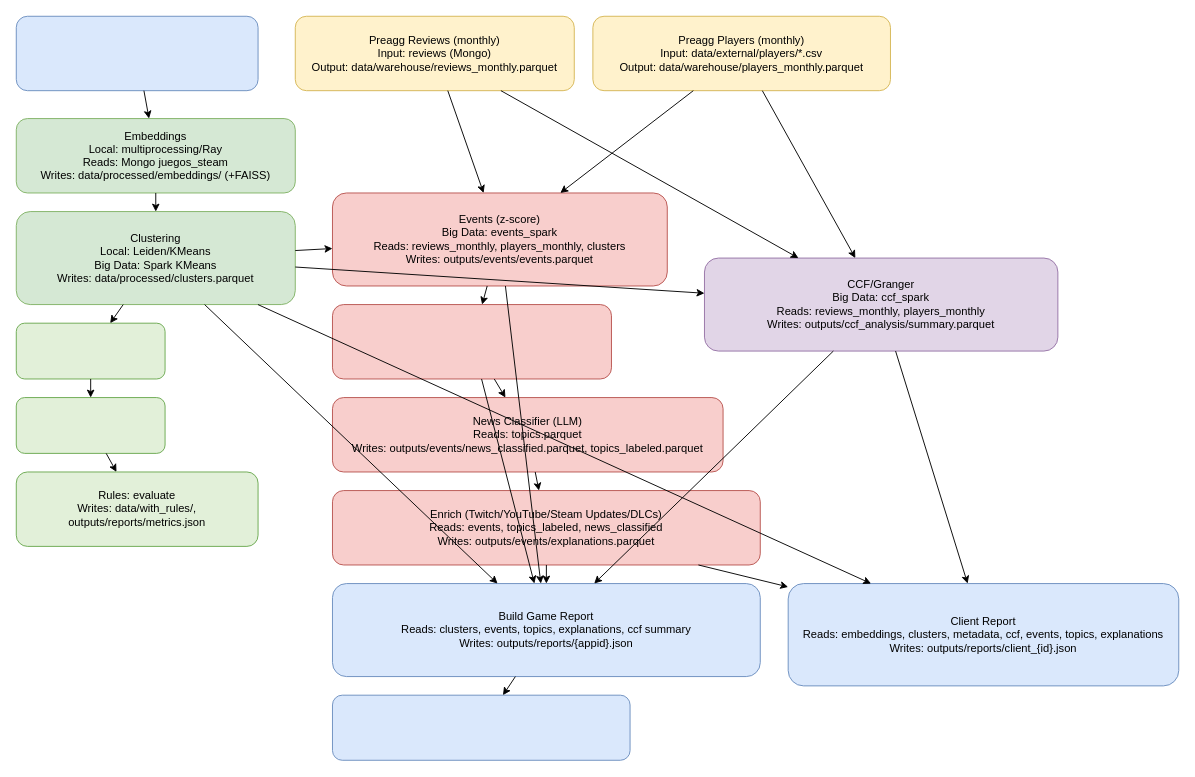
Image size: 1195x777. Some labels were removed from this diagram. The centre of each missing label's shape, as x and y in pixels:
Editor View Writes: outputs/reports/{appid}_editor.json: the point at 481,727
MongoDB (exploitation_zone) collections: juegos_steam, steam_reviews, news_games: the point at 136,53
Rules: apply: the point at 90,425
Rules: prepare: the point at 90,350
Topics (BERTopic) Reads: events.parquet Writes: outputs/events/topics.parquet: the point at 471,341
